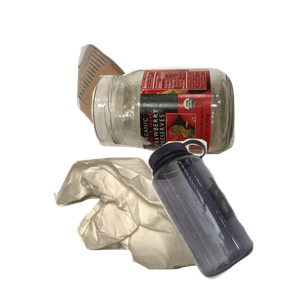cardboard: (74, 42, 225, 170)
glass: (89, 65, 300, 212)
plastic: (145, 136, 300, 300)
trash: (51, 155, 261, 300)
